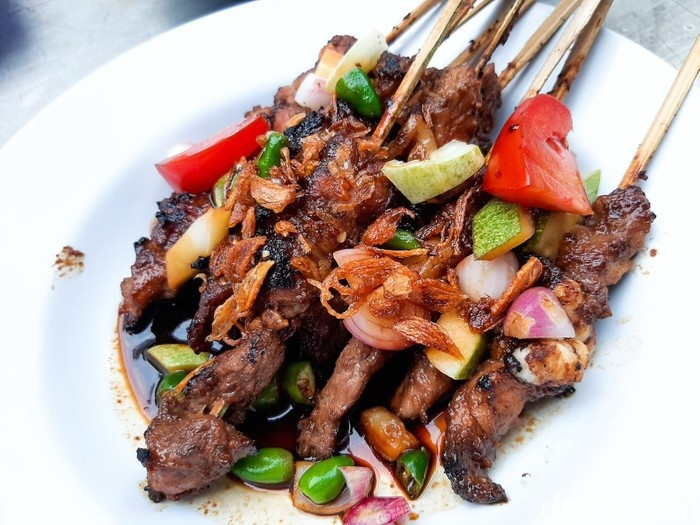sate: (117, 29, 661, 506)
